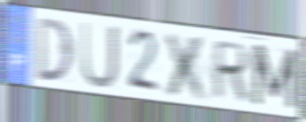2: (125, 27, 162, 98)
D: (35, 16, 76, 84)
M: (250, 41, 299, 111)
R: (209, 39, 253, 103)
U: (79, 19, 120, 91)
X: (162, 30, 212, 104)
